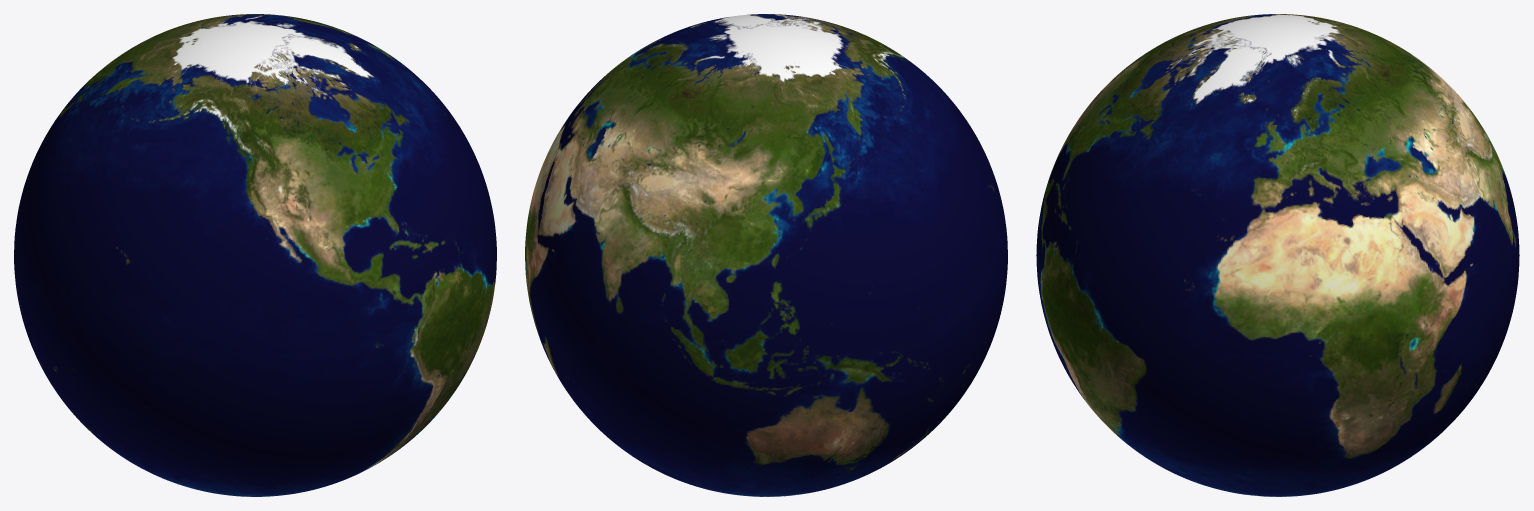
Rendered from earth.obj.
3 renders of one model, left to right at view 1: azimuth 30°, elevation 25°; view 2: azimuth 150°, elevation 25°; view 3: azimuth 270°, elevation 25°, orthographic.
Parts seen in each view (by area): view 1: Sphere_Sphere.001; view 2: Sphere_Sphere.001; view 3: Sphere_Sphere.001.
Boxes of the visible parts, x1,y1,x2,y2 form: Sphere_Sphere.001: (14,14,496,496); Sphere_Sphere.001: (525,14,1007,496); Sphere_Sphere.001: (1036,14,1519,496).
Size of the model in its own units: 4.32 by 4.32 by 4.32.
Materials: 1 (1 with a texture image).
